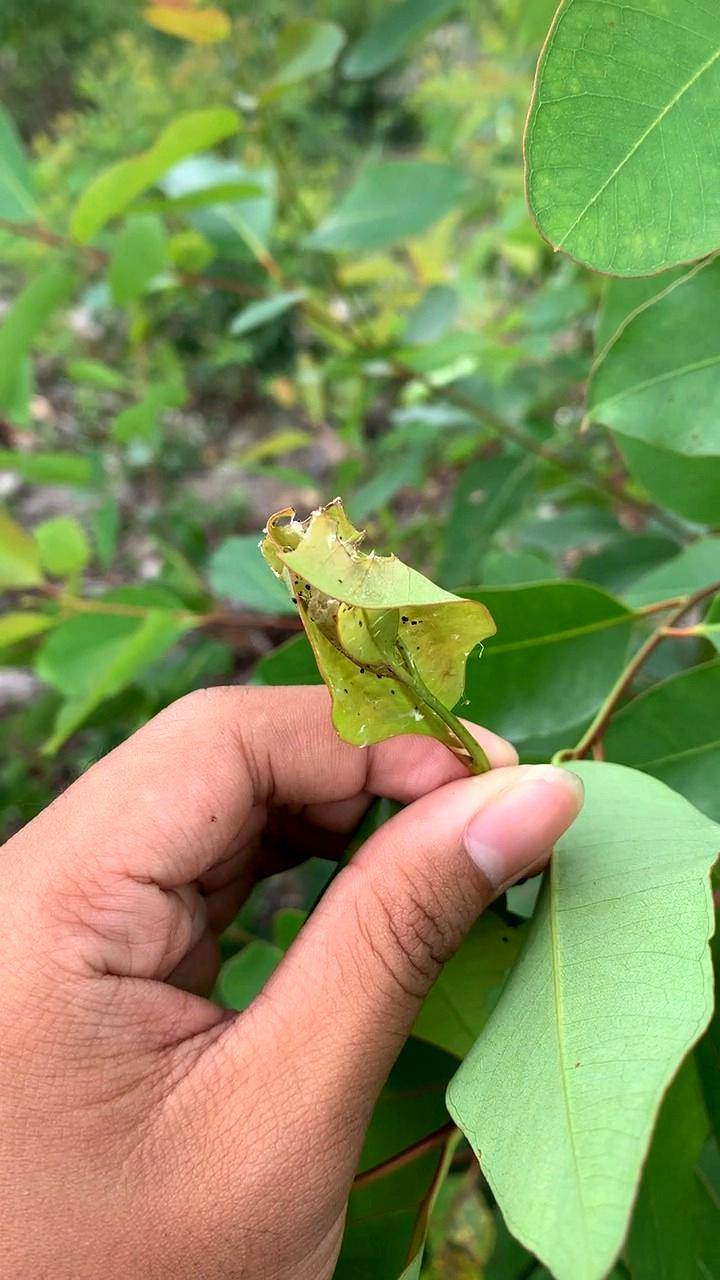Leaf Roller - Leaf: (253, 483, 499, 757)
